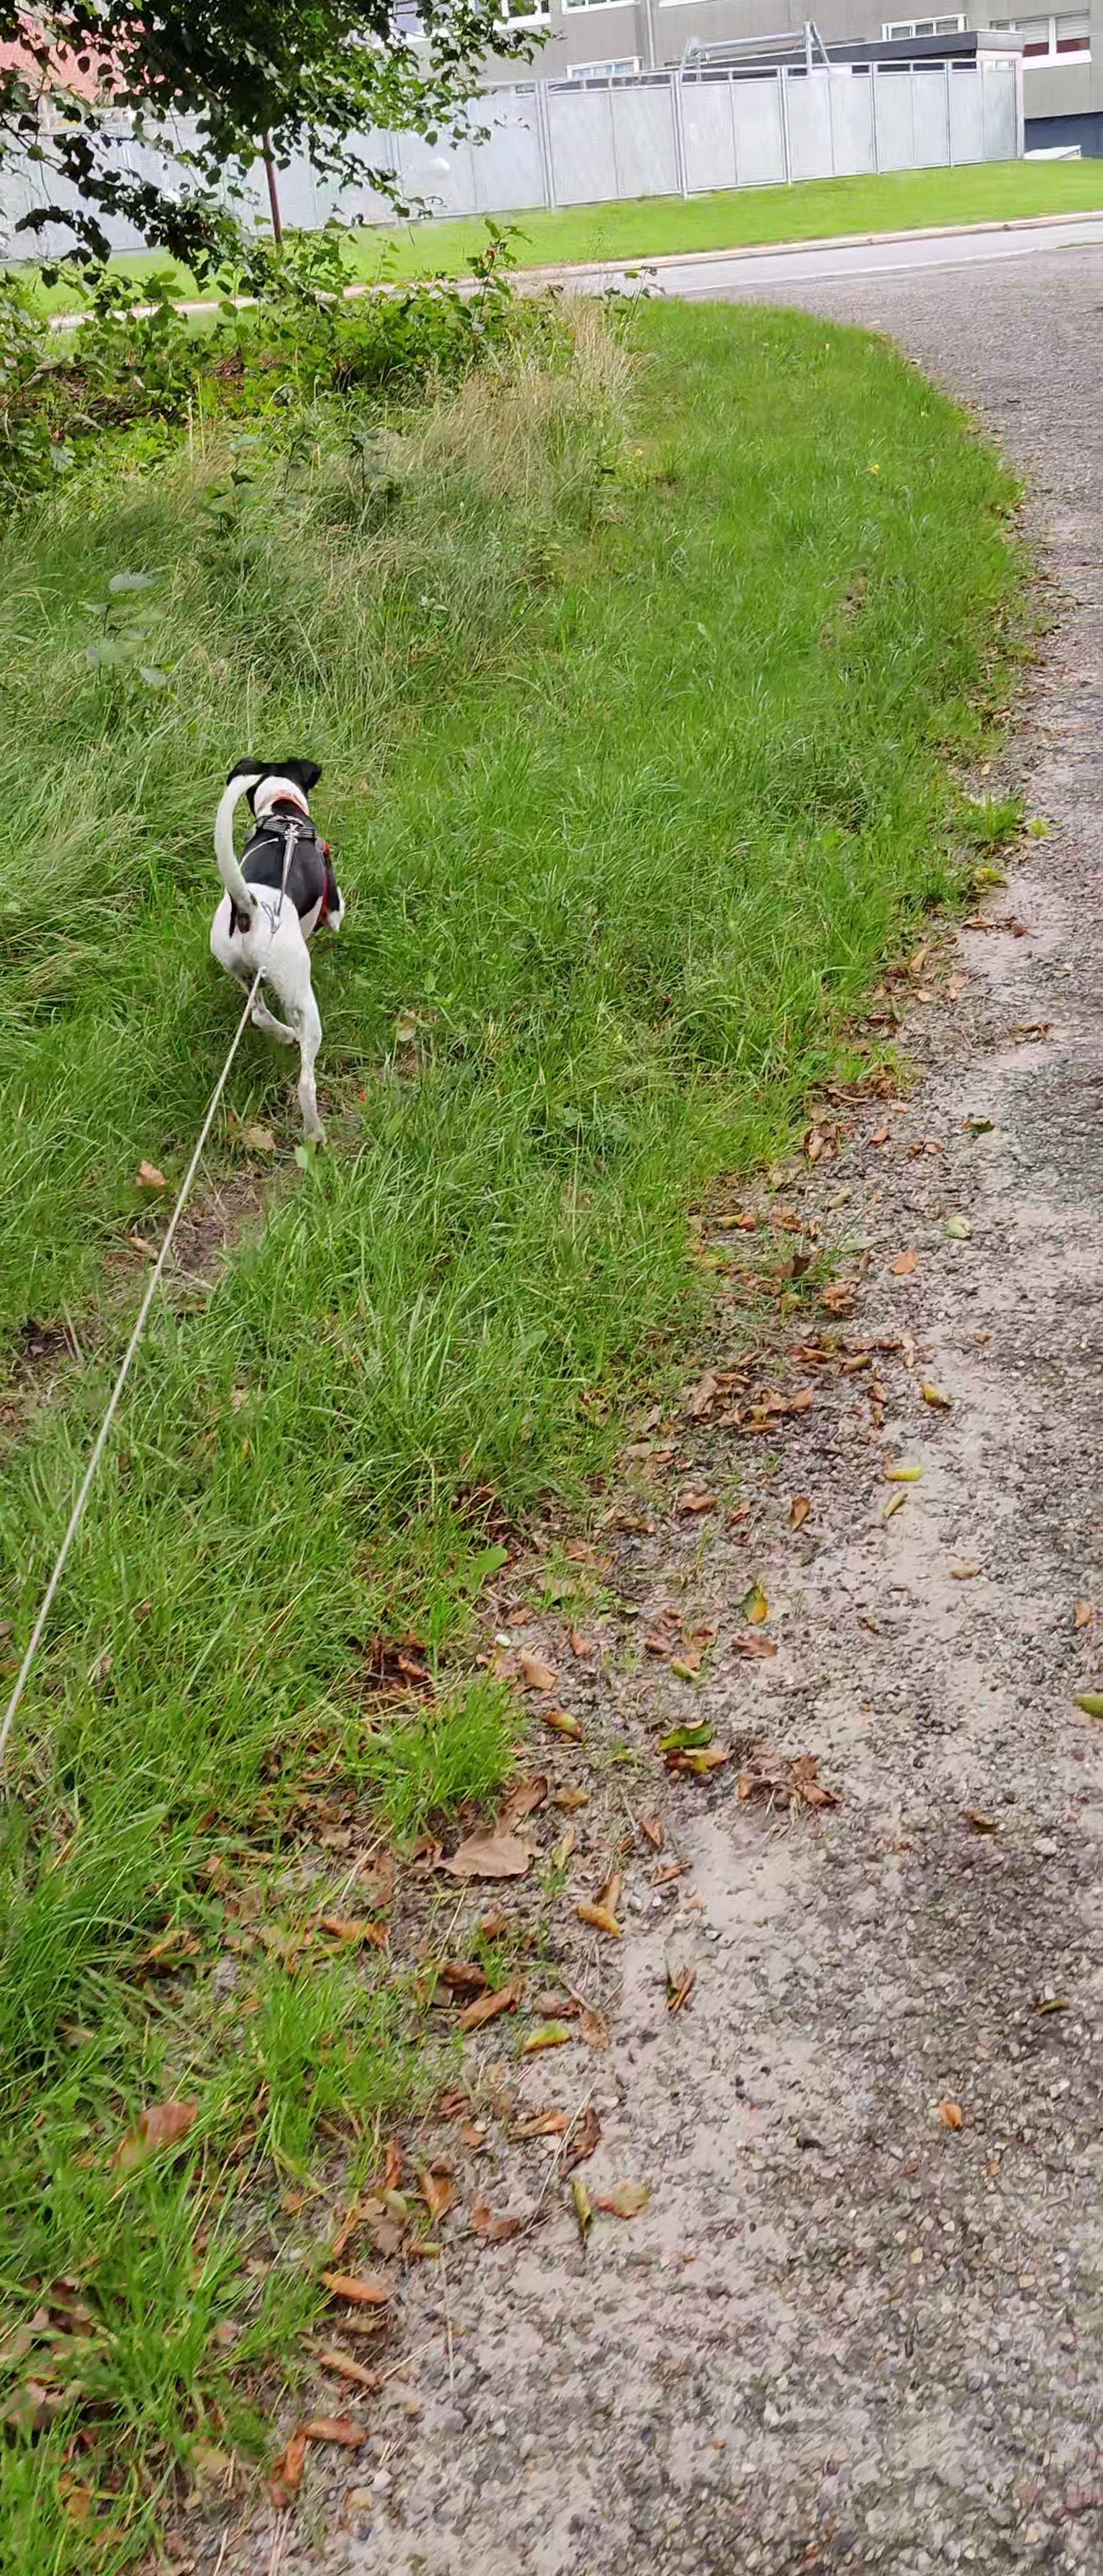Dog: (202, 754, 352, 1150)
